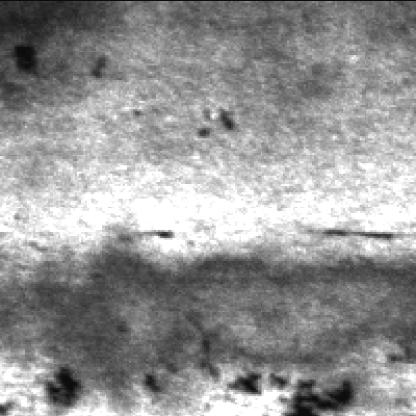inclusion: (220, 368, 356, 416), (33, 370, 81, 414), (6, 40, 44, 82)
patches: (0, 252, 410, 376), (0, 4, 108, 108)
